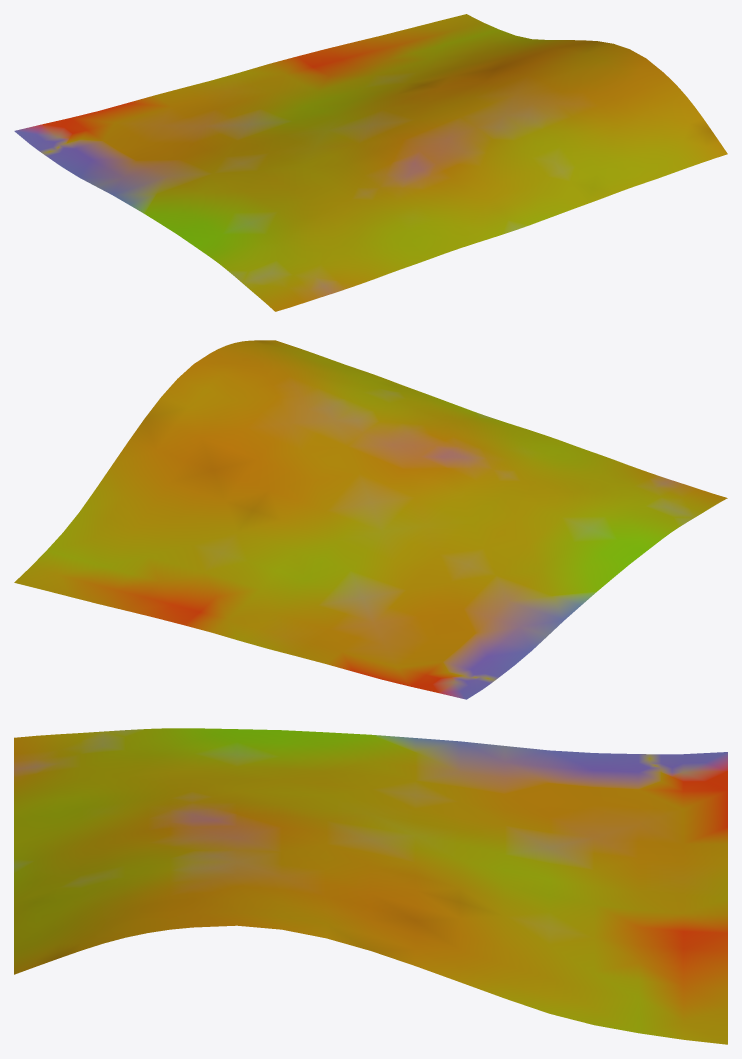
File: SM_BM_BT_Terrain_3_6.glb
3 renders of one model, top to bottom at view 1: azimuth 30°, elevation 25°; view 2: azimuth 150°, elevation 25°; view 3: azimuth 270°, elevation 25°, orthographic. The views are drawn at different scales.
Visible parts, largest first — view 1: SM_BM_BT_Terrain_3_6; view 2: SM_BM_BT_Terrain_3_6; view 3: SM_BM_BT_Terrain_3_6.
Part boxes in pixels (x1,y1,x2,y2): SM_BM_BT_Terrain_3_6: [14, 14, 727, 311]; SM_BM_BT_Terrain_3_6: [14, 340, 727, 699]; SM_BM_BT_Terrain_3_6: [14, 728, 727, 1044].
Size of the model in its own units: 256 by 51.57 by 256.
